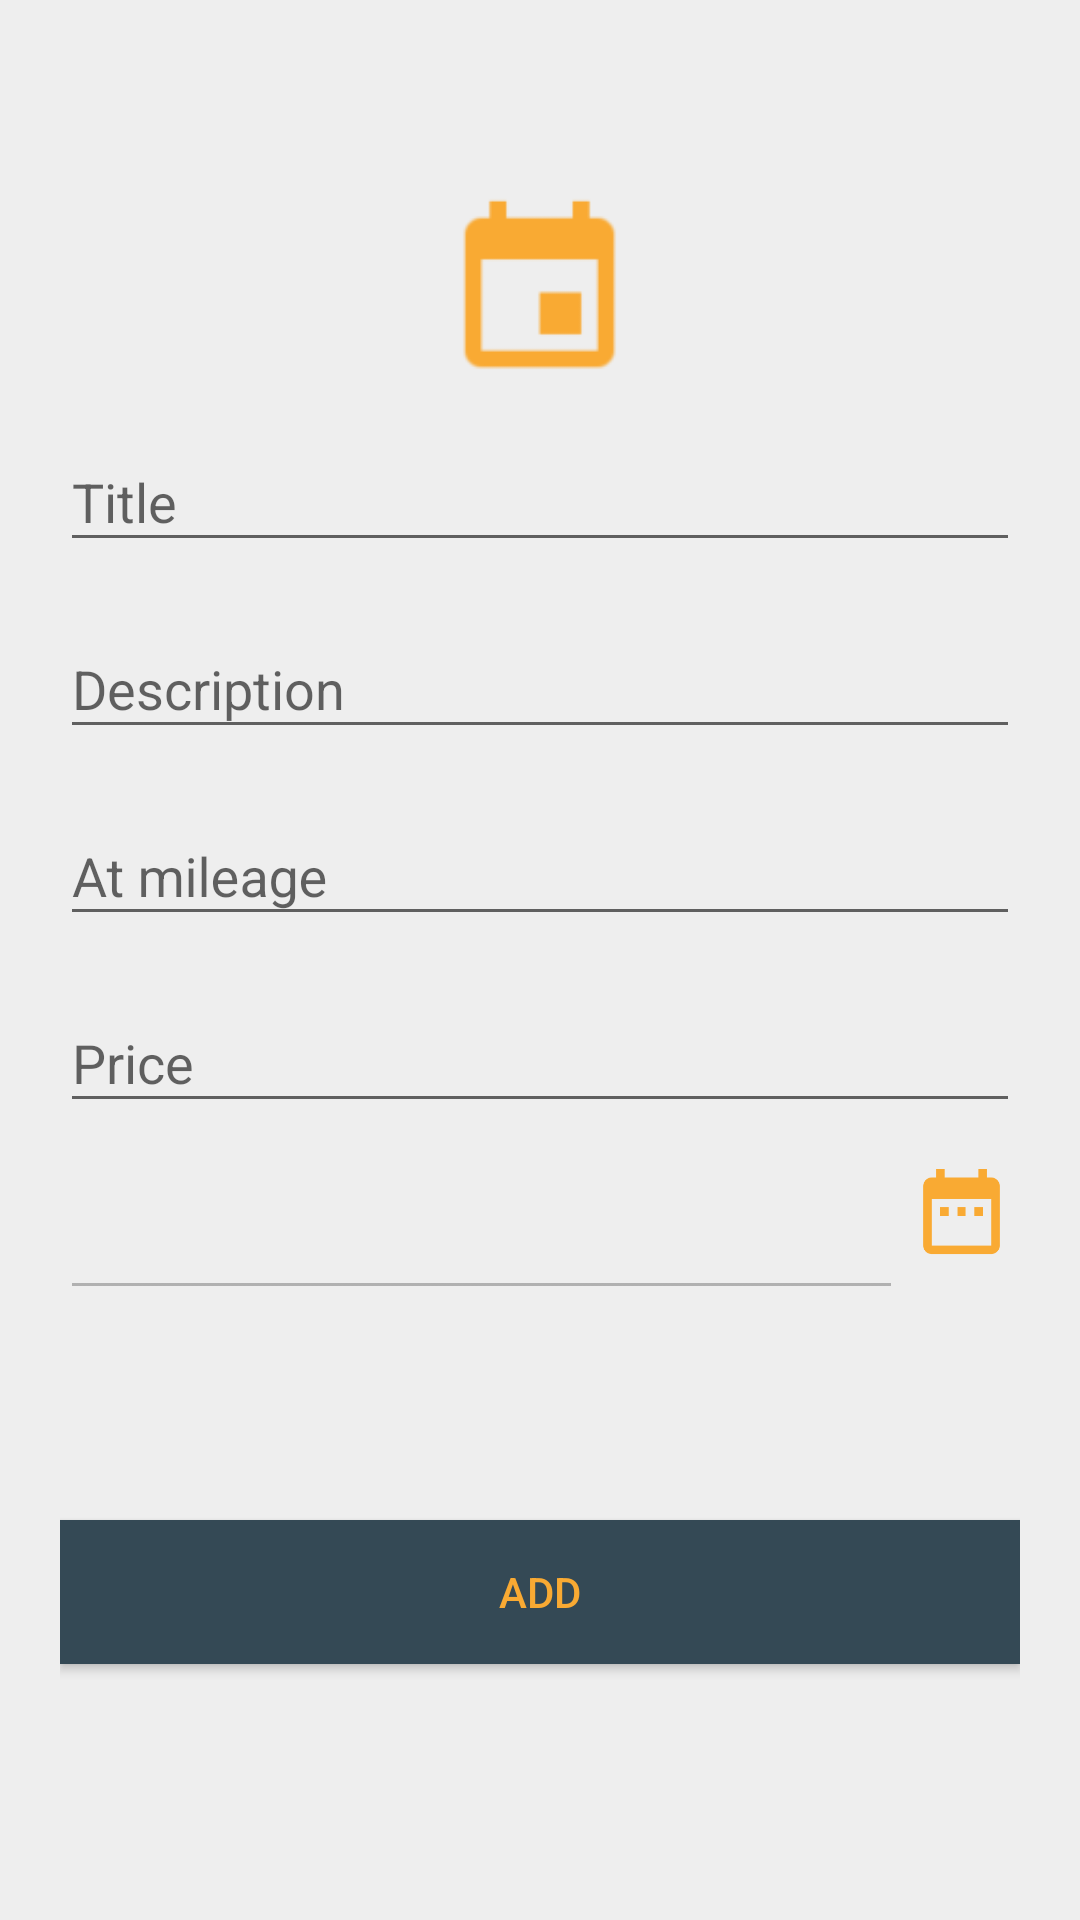

Named icons in this screenshot (1080w x 1920h) and their bounding boxes, (x1, y1, x2, y2):
date range: (923, 1169, 1000, 1254)
event: (463, 200, 616, 369)
